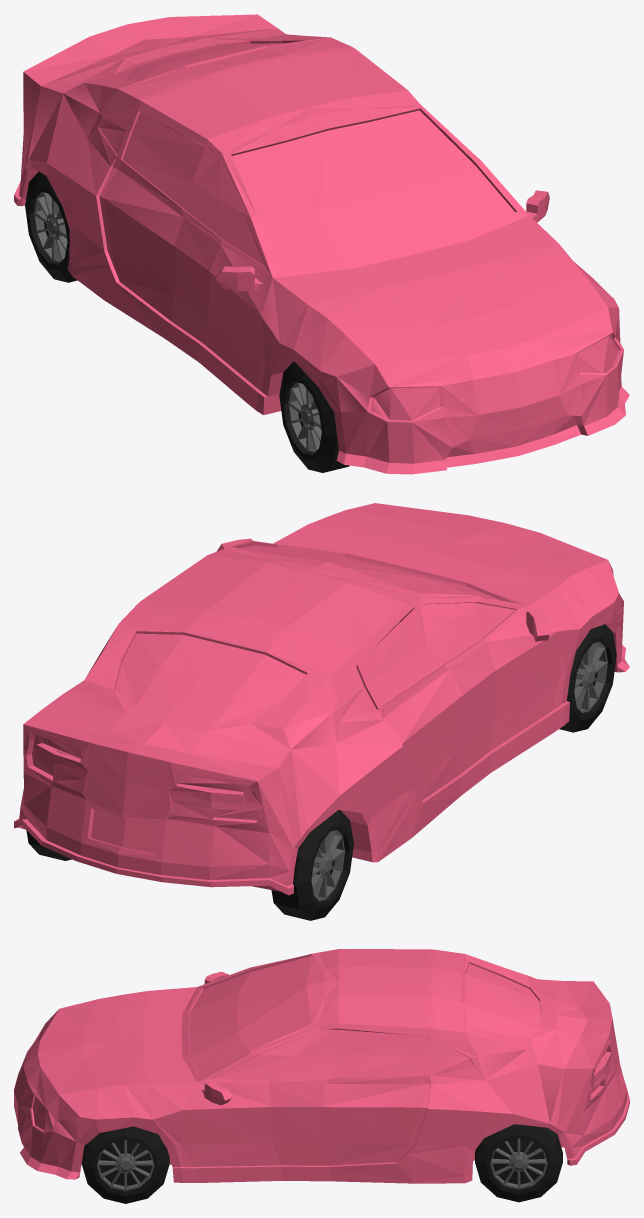
Rendered from style-king.glb.
3 views of the same model, one above another, from view 1: azimuth 30°, elevation 25°; view 2: azimuth 150°, elevation 25°; view 3: azimuth 270°, elevation 25° (orthographic). The views are drawn at different scales.
Parts seen in each view (by area): view 1: body, wheel-front-right, wheel-back; view 2: body, wheel-back, wheel-front-right; view 3: body, wheel-back, wheel-front-left.
Boxes of the visible parts, box(x1,y1,x2,y2) form: body: box(14, 14, 629, 474); wheel-front-right: box(279, 361, 349, 472); wheel-back: box(25, 171, 77, 282); body: box(14, 503, 629, 895); wheel-back: box(26, 810, 353, 920); wheel-front-right: box(559, 624, 616, 732); body: box(14, 949, 629, 1183); wheel-back: box(475, 1124, 562, 1202); wheel-front-left: box(81, 1126, 169, 1203).
Size of the model in its own units: 1.45 by 0.9345 by 3.05.
